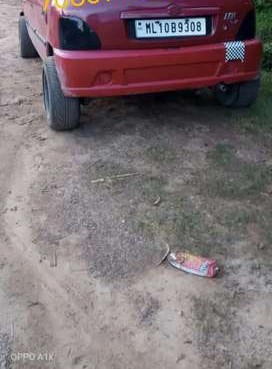ML10B9308: (135, 17, 205, 37)
